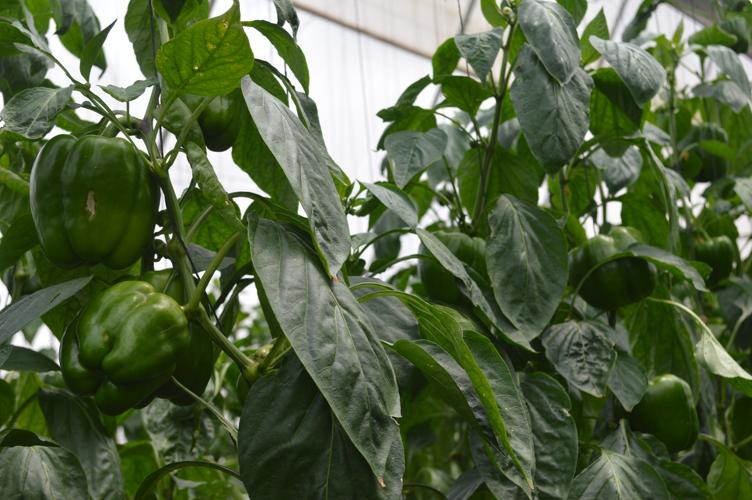BellPepper: (29, 135, 160, 265), (56, 280, 183, 401), (141, 270, 215, 404), (566, 226, 656, 310), (408, 231, 491, 303), (635, 376, 699, 456), (179, 91, 235, 151), (682, 122, 728, 180), (693, 232, 729, 282)
